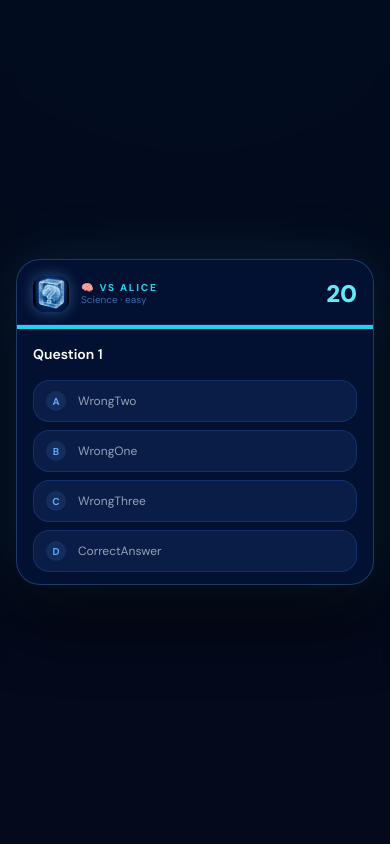
Test case: BrainFreezeModal – points animation key › pts element is remounted on Q2 (confirming animation restart after a correct Q1)
Expected: the text "Question 1" is shown, [33,345,103,363]
Step 1. Click the text "CorrectAnswer" → (120, 551), box [78,543,161,559]
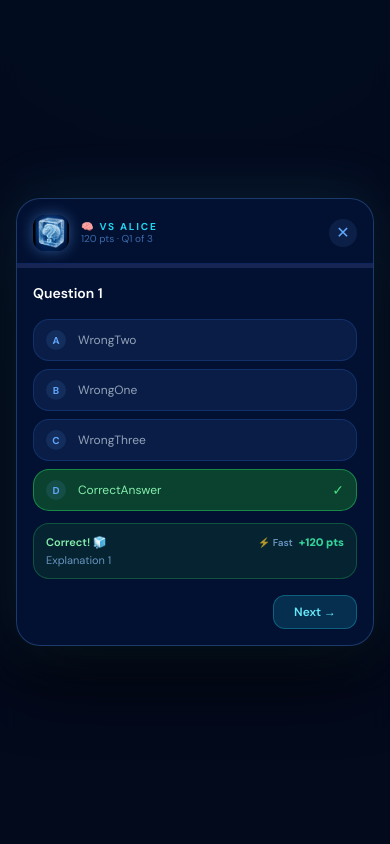
Expected: the text "+120 pts" is shown, [299,534,344,551]
Step 2. Click the button "Next →" → (315, 612), box [273,595,357,629]
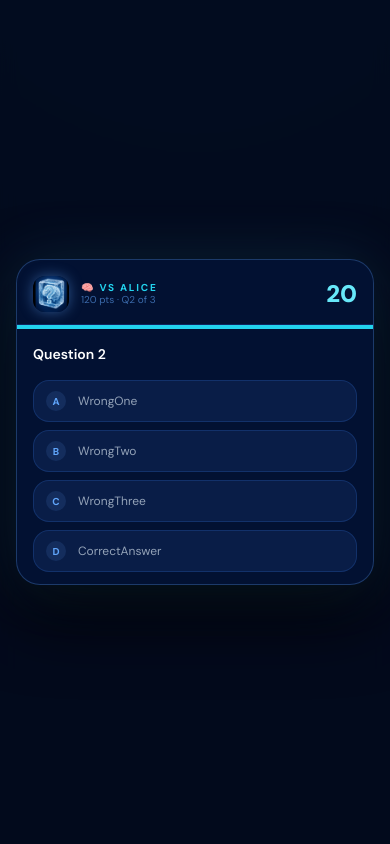
Expected: the text "Question 2" is shown, [33,345,106,363]
Step 3. Click the text "CorrectAnswer" → (120, 551), box [78,543,161,559]
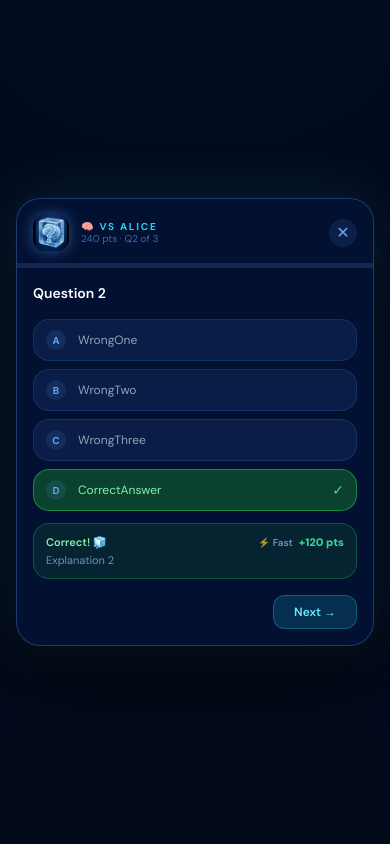
Expected: the text "+120 pts" is shown, [299,534,344,551]
